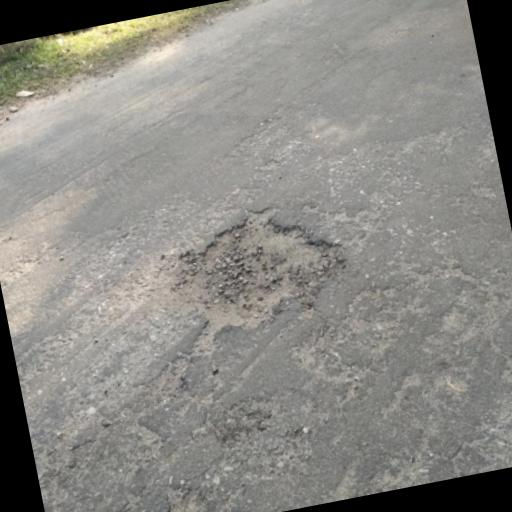pothole: (145, 190, 358, 348), (97, 480, 217, 512)
